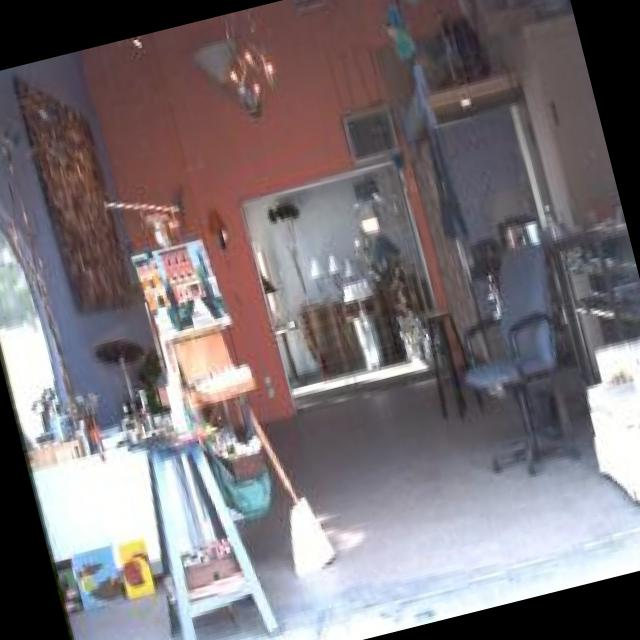armchair crop: (581, 333, 640, 503)
auxiliary table: (120, 420, 276, 640)
closet crop: (394, 62, 579, 392)
floor -X: (65, 341, 640, 640)
morror: (0, 224, 62, 447)
picture crop: (240, 160, 444, 392), (11, 79, 132, 314), (128, 236, 224, 331), (338, 100, 397, 165), (68, 542, 120, 610), (116, 541, 153, 596)
swivel chair crop: (462, 243, 574, 472)
wall clock: (79, 0, 558, 441), (0, 50, 178, 609), (471, 0, 640, 376)
